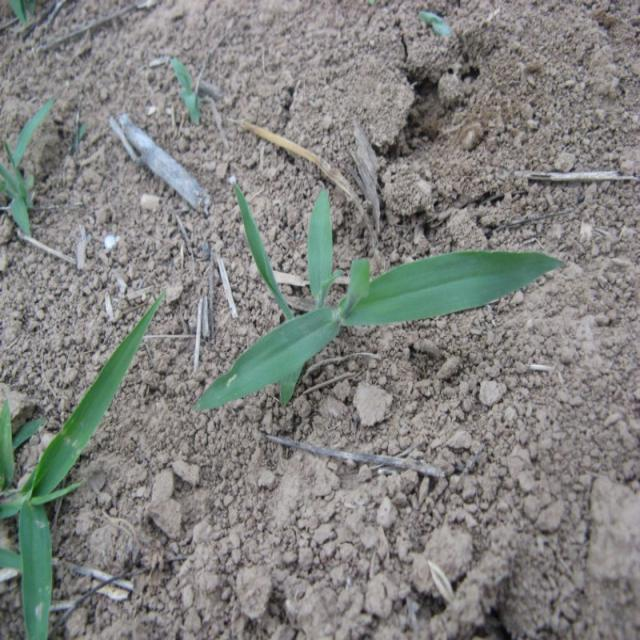bg: (202, 180, 563, 408)
